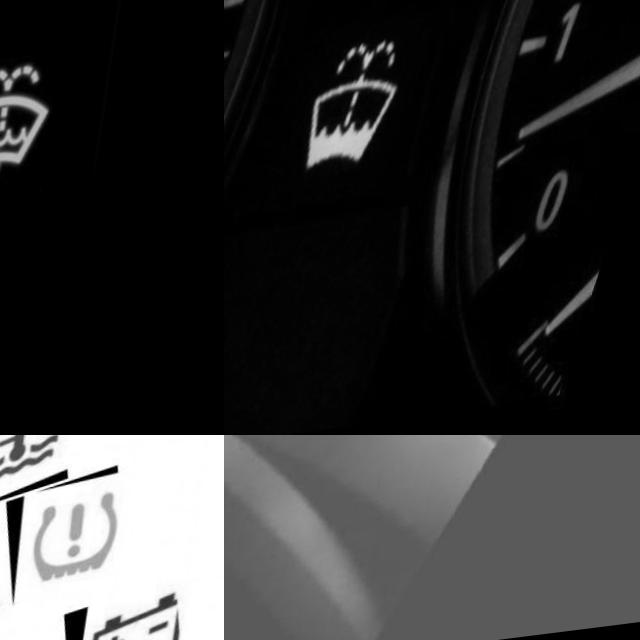Washer Fluid: (316, 45, 412, 176)
